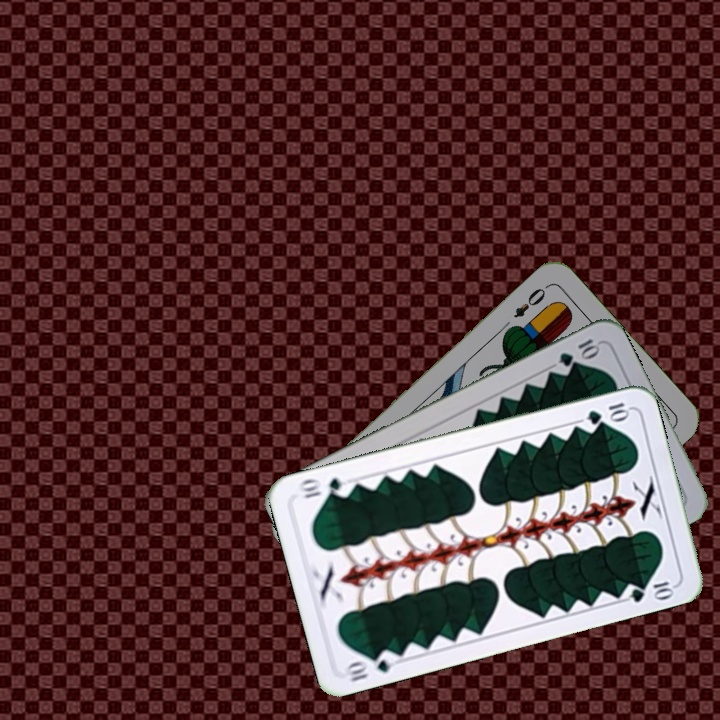EO: (509, 280, 551, 321)
G10: (342, 646, 400, 685), (555, 334, 602, 369), (583, 398, 632, 427)
